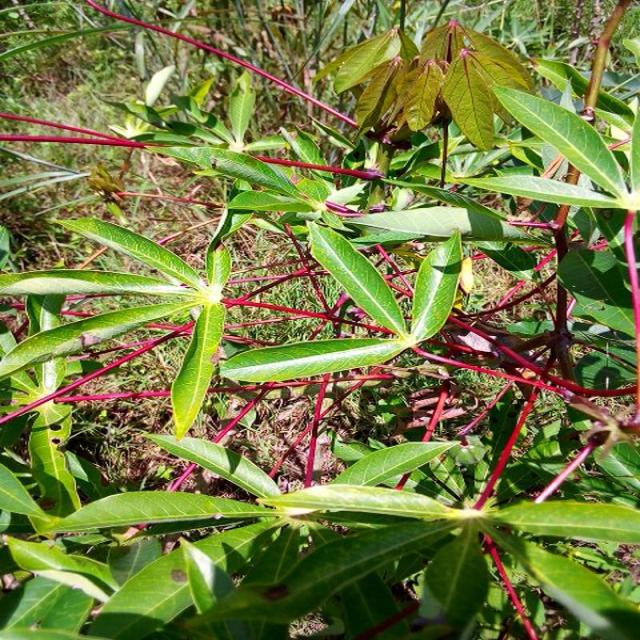cassava leaf: (491, 82, 632, 203), (307, 219, 409, 339), (171, 300, 227, 440)
